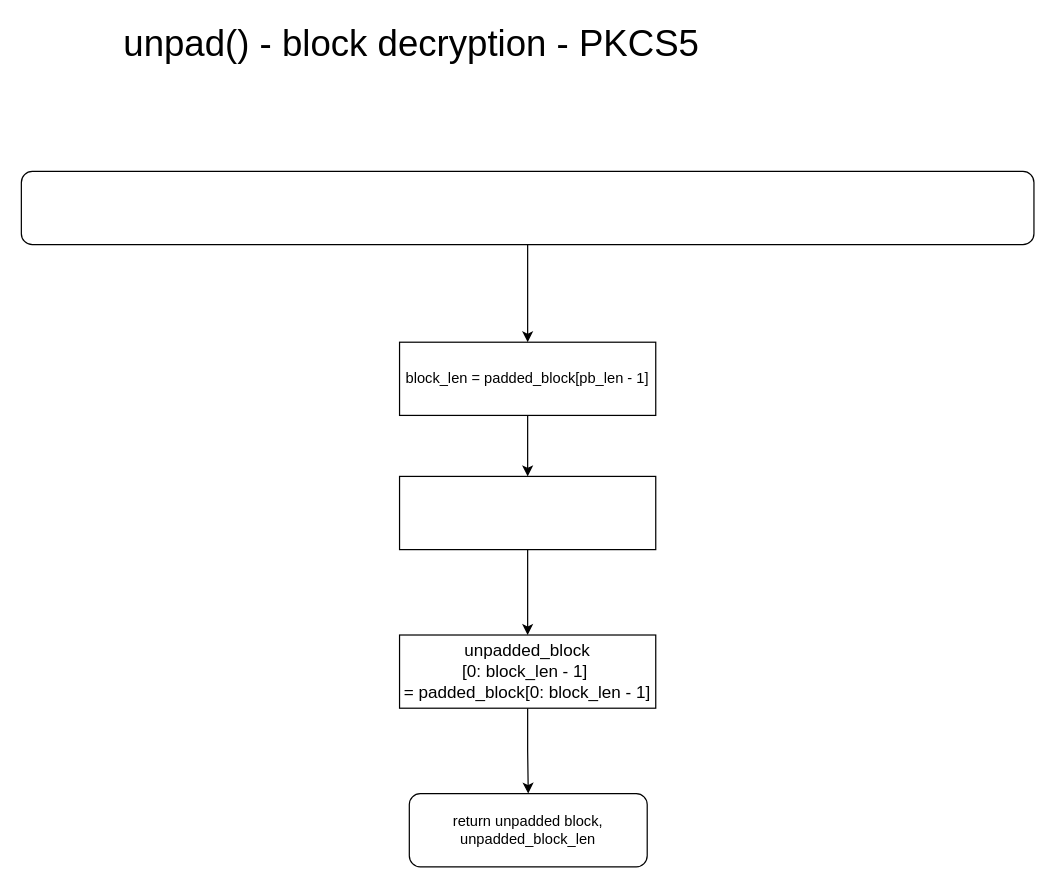
This 1055x888 diagram has some shape labels left out. Each missing label, with the centre of its shape:
"block_padded.unpad(padded_block*, pb_len,unpadded_block*, padded_block_len*)" belongs at pixel 527 207.
"unpadded_block = new_block(block_len)" belongs at pixel 527 512.
